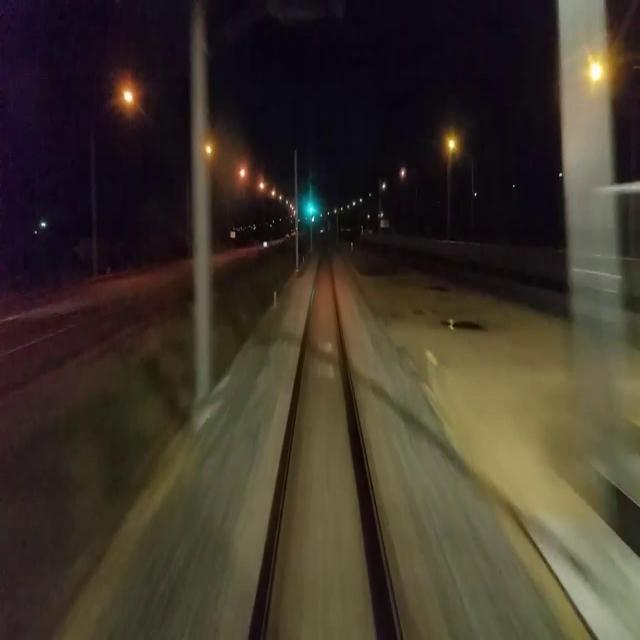rail-track: (274, 237, 387, 575)
